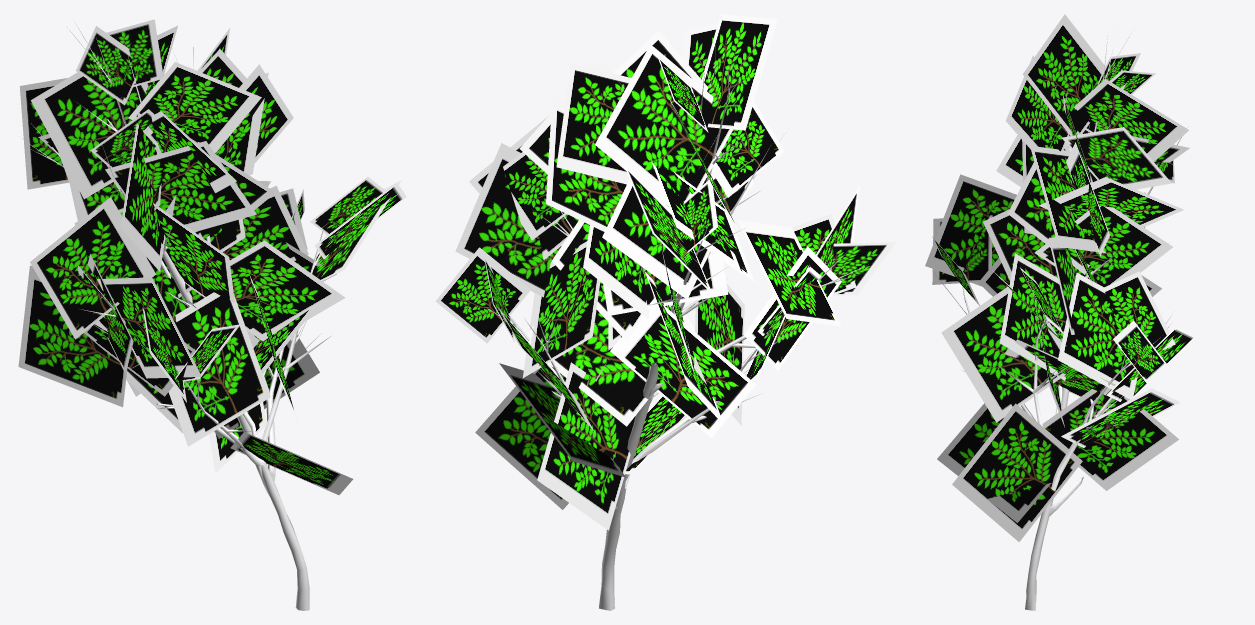
Rendered from tree_g.fbx.
3 views of the same model, side by side, from view 1: azimuth 30°, elevation 25°; view 2: azimuth 150°, elevation 25°; view 3: azimuth 270°, elevation 25° (orthographic). The views are drawn at different scales.
Visible parts, largest first — view 1: tree_g; view 2: tree_g; view 3: tree_g.
Part boxes in pixels (box(x1,y1,x2,y2)): tree_g: box(18, 19, 406, 610); tree_g: box(435, 14, 896, 610); tree_g: box(925, 14, 1198, 610).
Bounding box in the file's own units: 27.66 × 42.31 × 23.3.
Materials: 2 (1 with a texture image).
